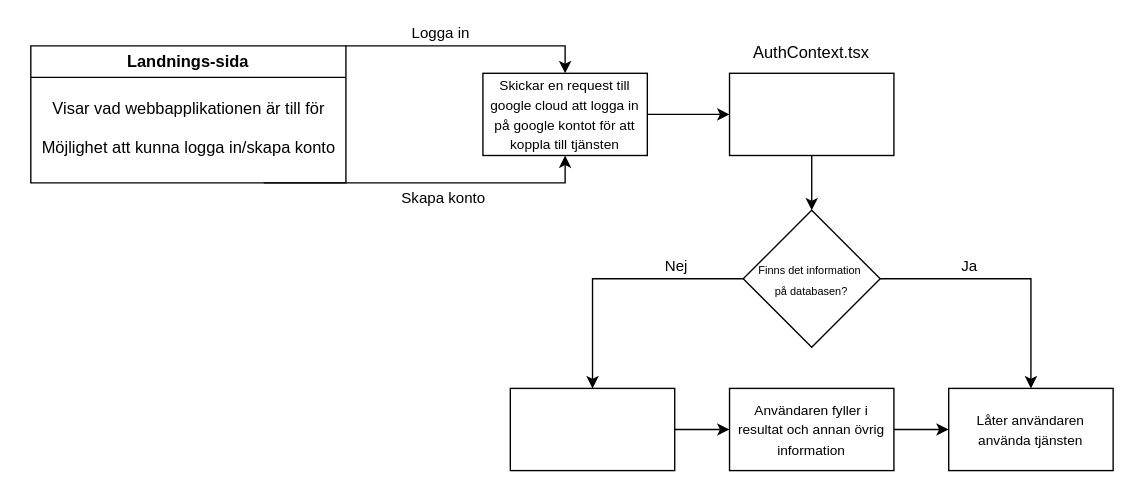
The diagram is 1137 pixels wide and 495 high, and some of its shapes have lost their labels. The centre of each missing label's shape, as x and y in pixels:
Hämtar information om användaren, både från databasen samt autentiseringen: (x=811, y=113)
Visa en konstant popup med länk till att ladda upp/fylla i studieresultat: (x=592, y=429)
